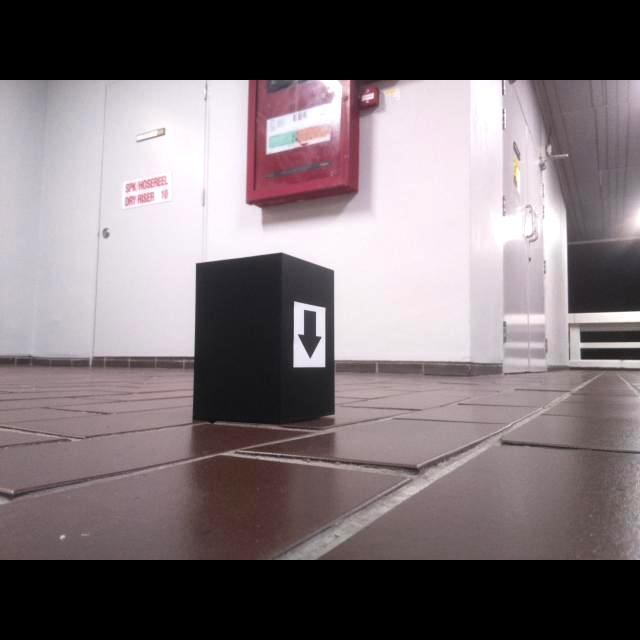DOWN: (296, 309, 323, 360)
